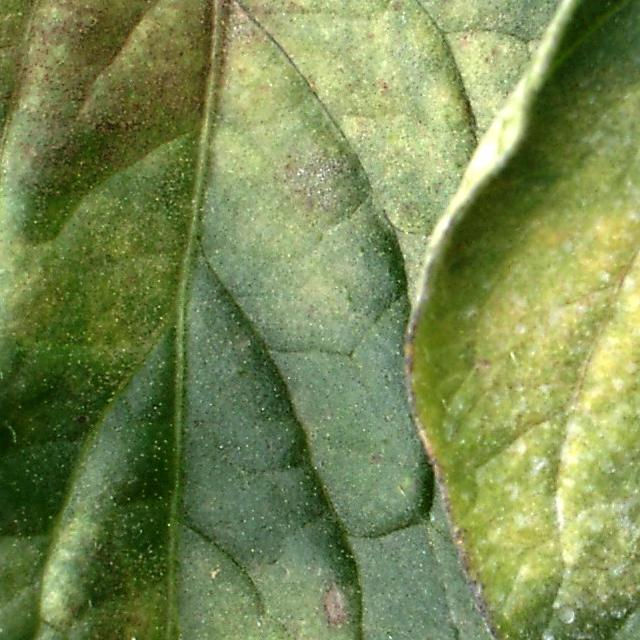Tomato mold leaf: (0, 0, 584, 640), (413, 0, 640, 640)
